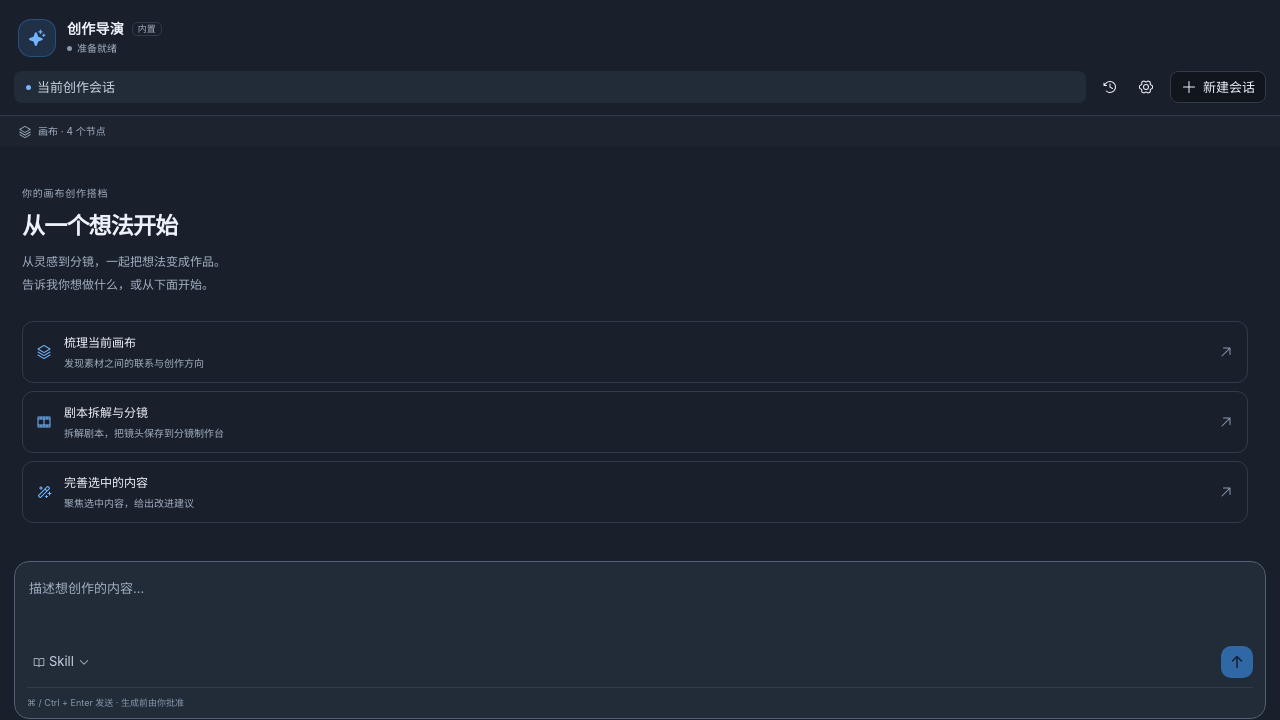
Test: returns to a clean chat when creating a session from 会话列表
Step 1. Type "旧会话草稿" into the text box named "本次任务" → (640, 606), box [27,573,1253,639]
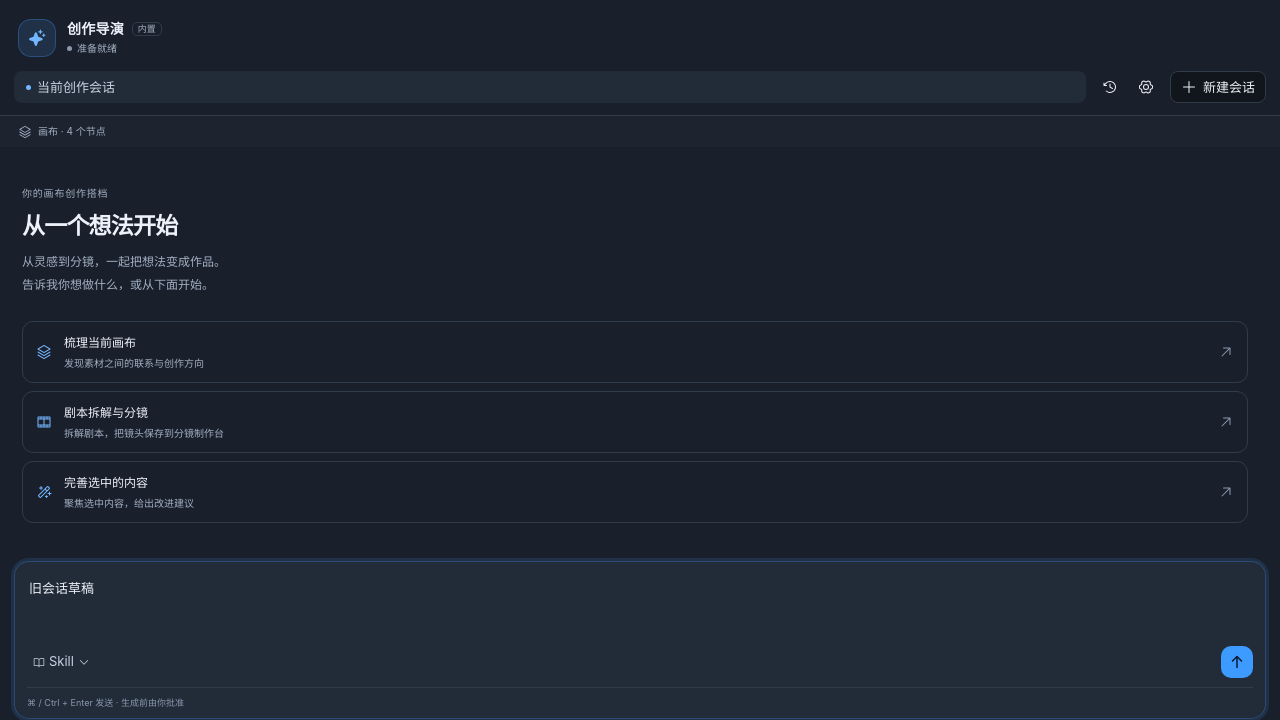
Step 2. Click the button named "会话列表" → (1110, 87), box [1094,71,1126,103]
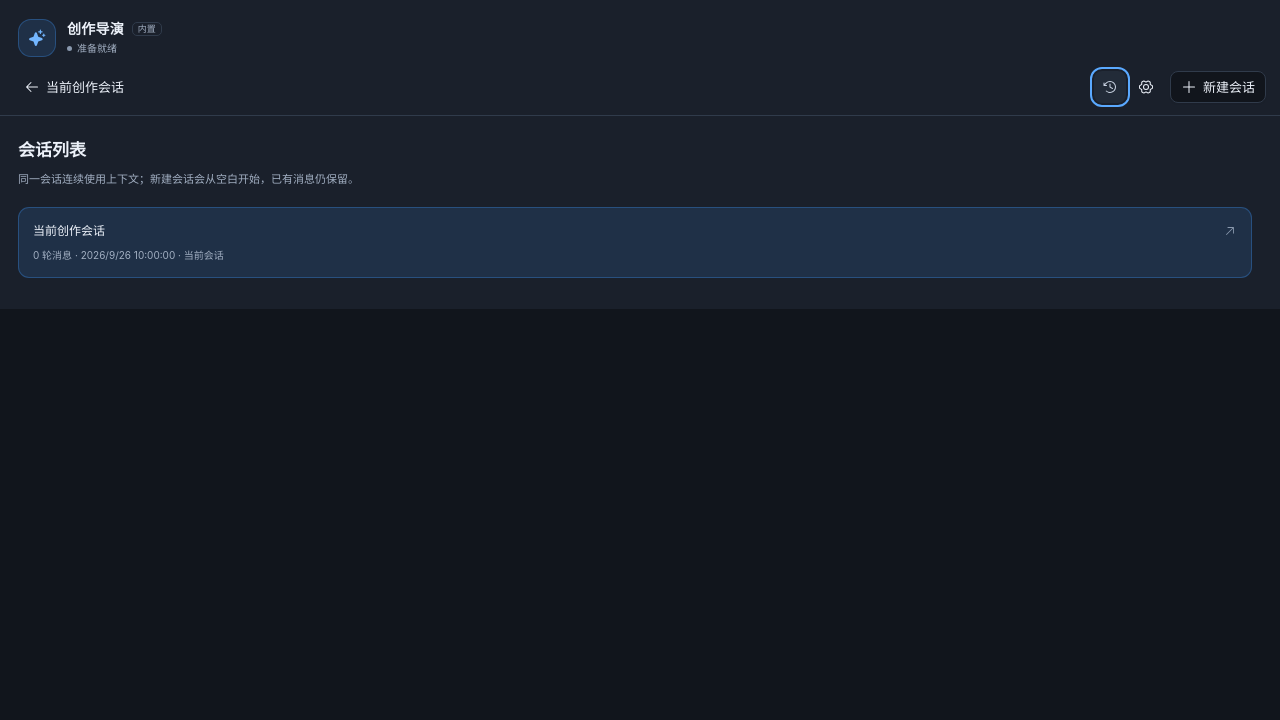
Now the text box labelled "本次任务" is gone
Step 3. Click the button "新建会话" → (1218, 87), box [1170,71,1266,103]
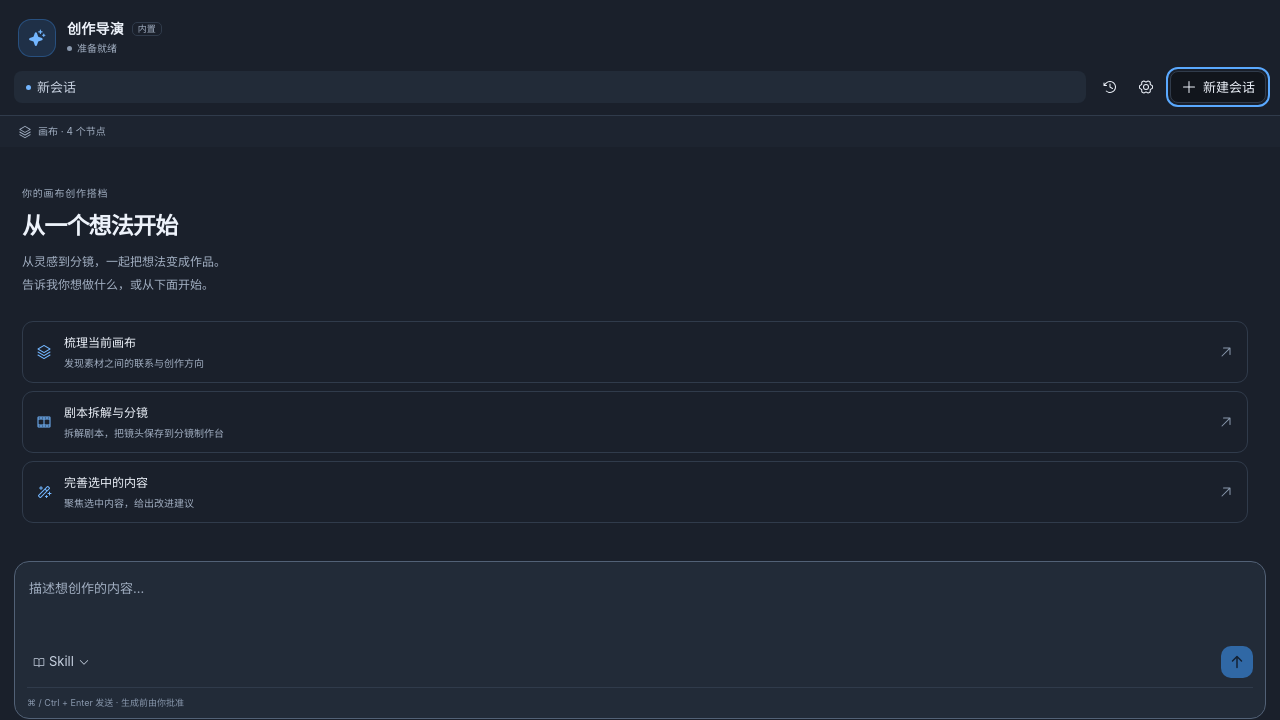
Now the text box named "本次任务" is empty, box [27,573,1253,639]
Now the button with aria-label "聊天" reads "新会话", box [14,71,1086,103]
Step 4. Click the button named "会话列表" → (1110, 87), box [1094,71,1126,103]
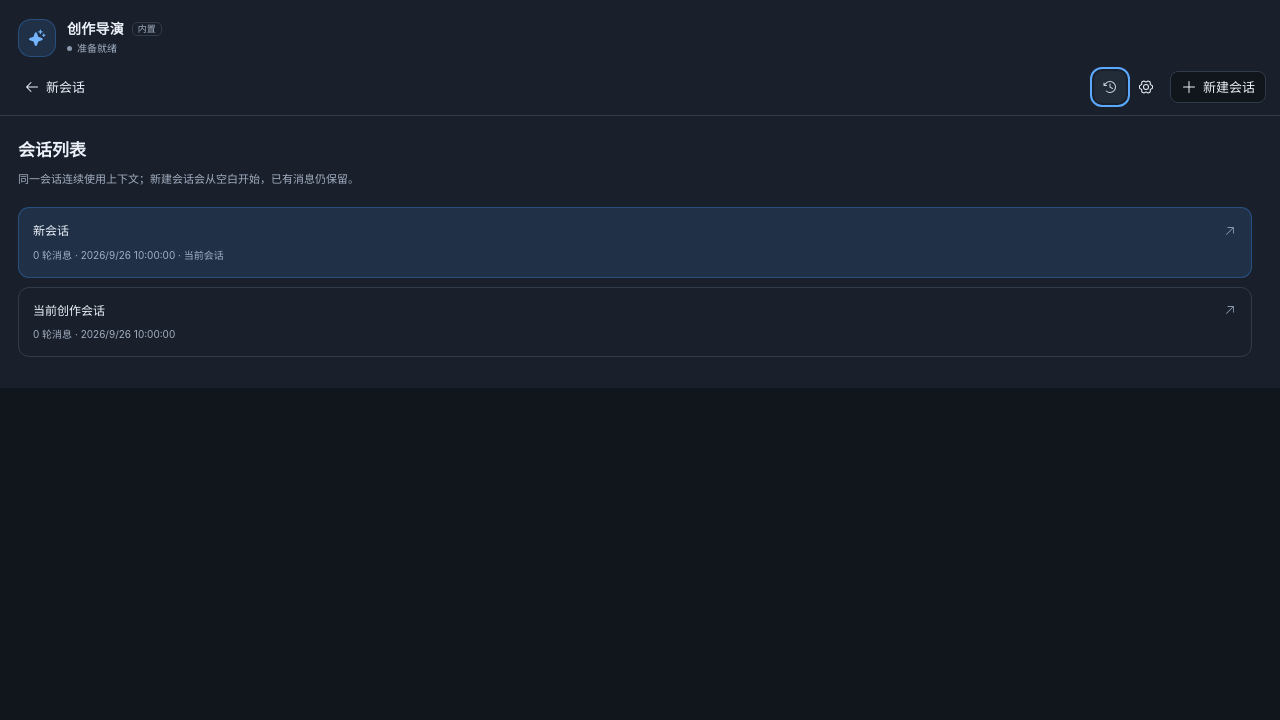
Step 5. Click the button "当前创作会话 0 轮消息 · 2026/9/26 10:00:00" → (69, 310), box [18,287,1252,357]
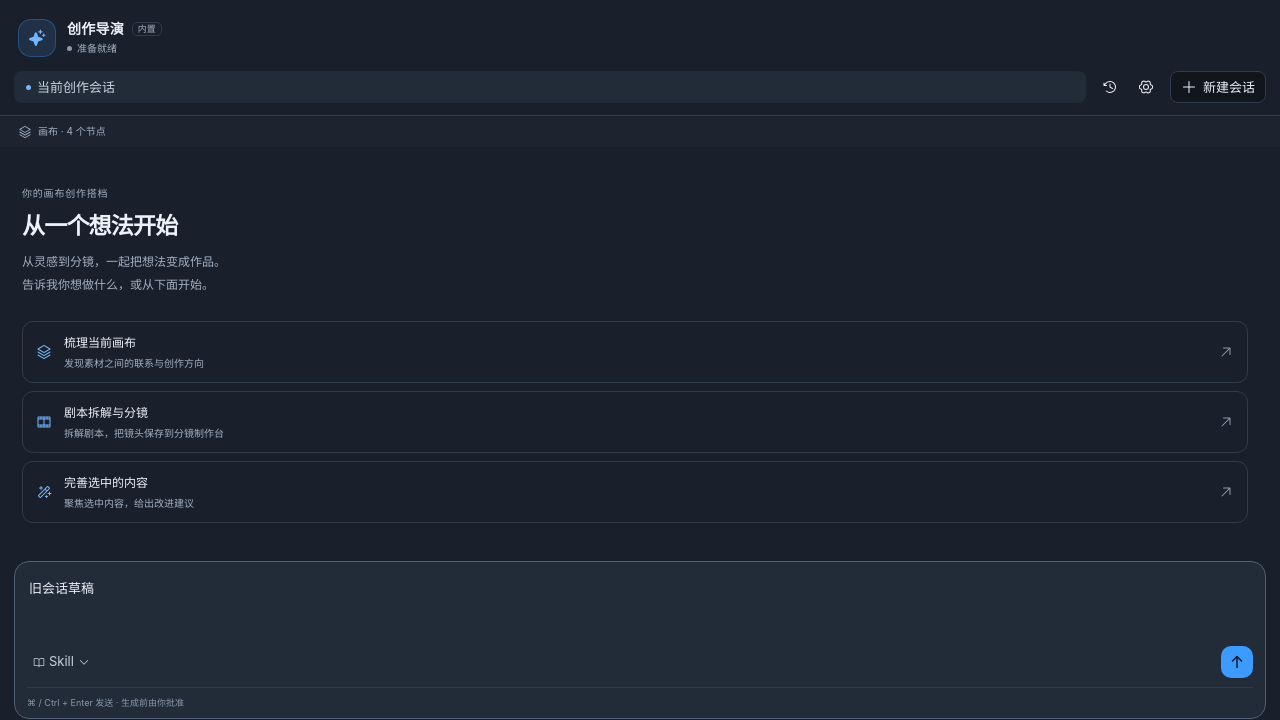
Now the text box named "本次任务" holds "旧会话草稿", box [27,573,1253,639]
